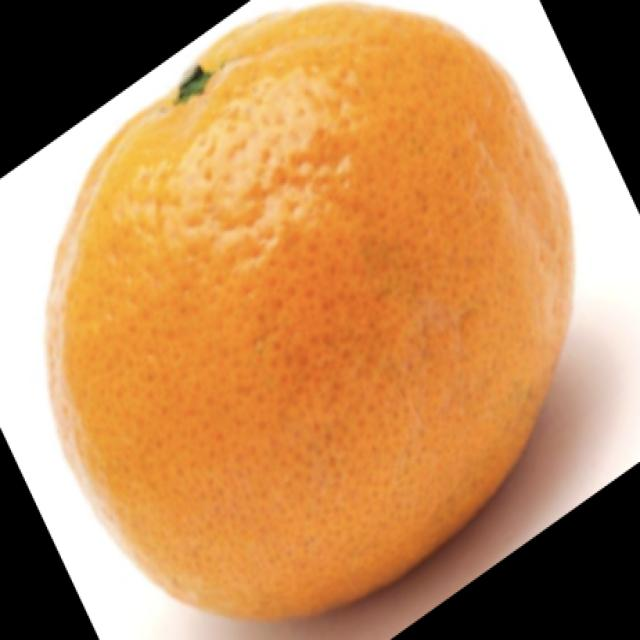matang: (53, 8, 571, 613)
